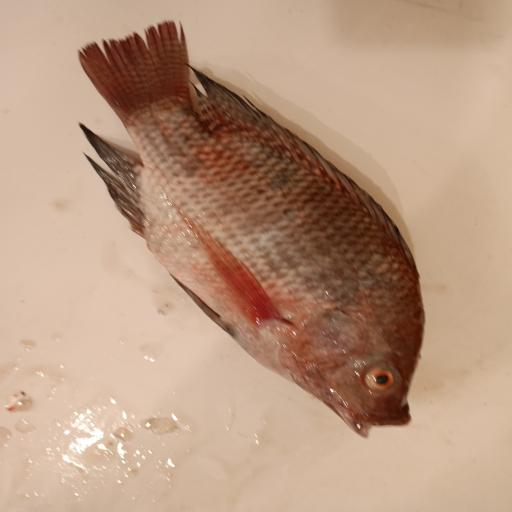Tilapia: (77, 20, 425, 438)
